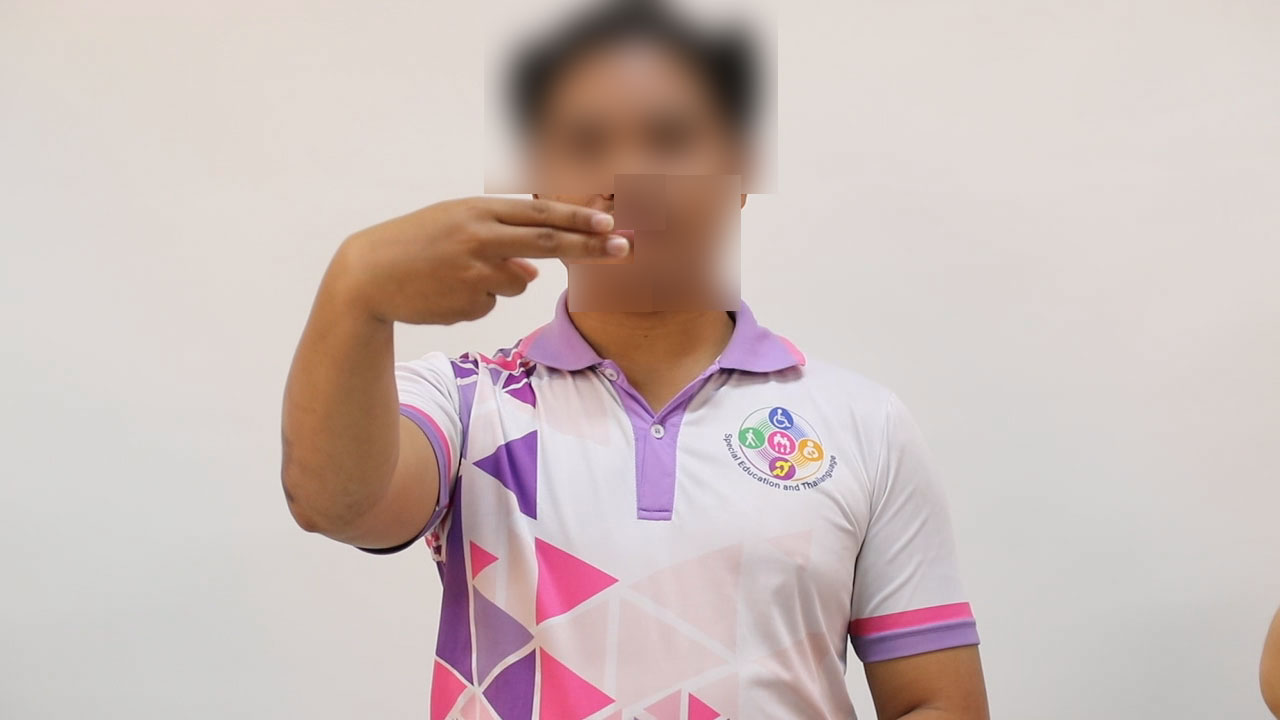hor: (327, 183, 640, 336)
